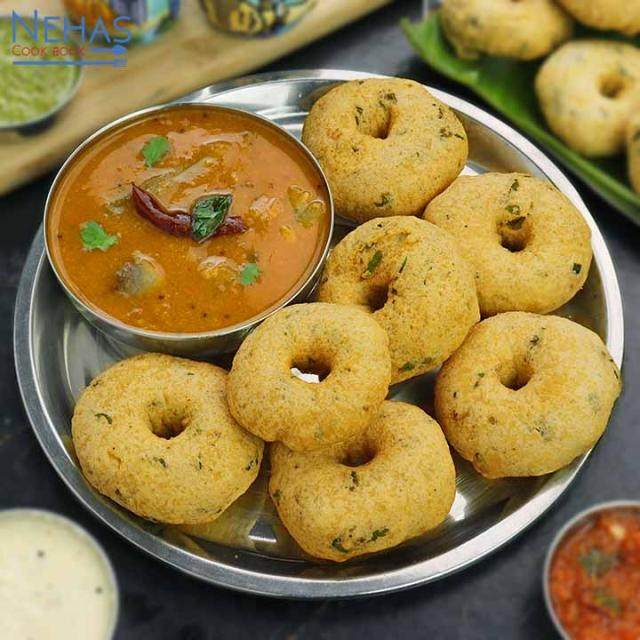MEDU VADA: (71, 344, 257, 523), (270, 389, 464, 555), (442, 312, 624, 487), (317, 218, 485, 380), (228, 300, 395, 461), (424, 167, 596, 315), (303, 71, 468, 218)
